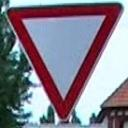preferencia: (5, 2, 126, 121)
